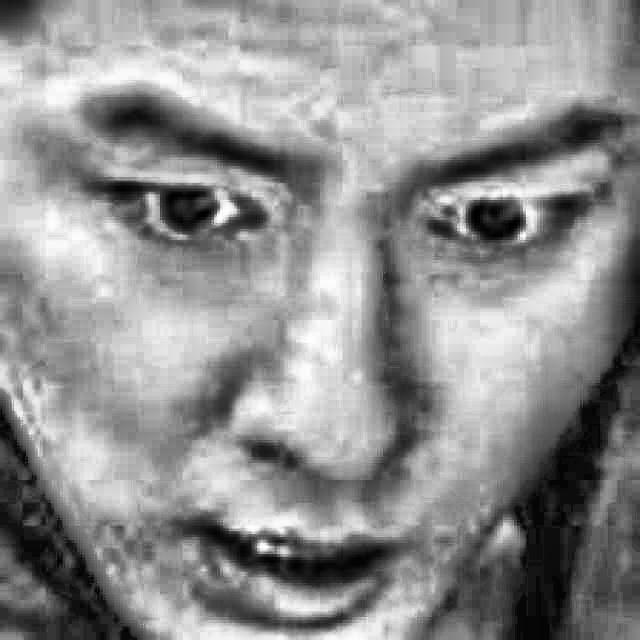fear: (62, 59, 619, 635)
